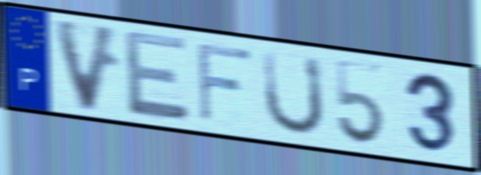3: (399, 70, 462, 158)
5: (333, 55, 392, 149)
E: (121, 27, 193, 124)
F: (194, 39, 256, 126)
U: (261, 47, 327, 138)
V: (49, 14, 123, 115)
